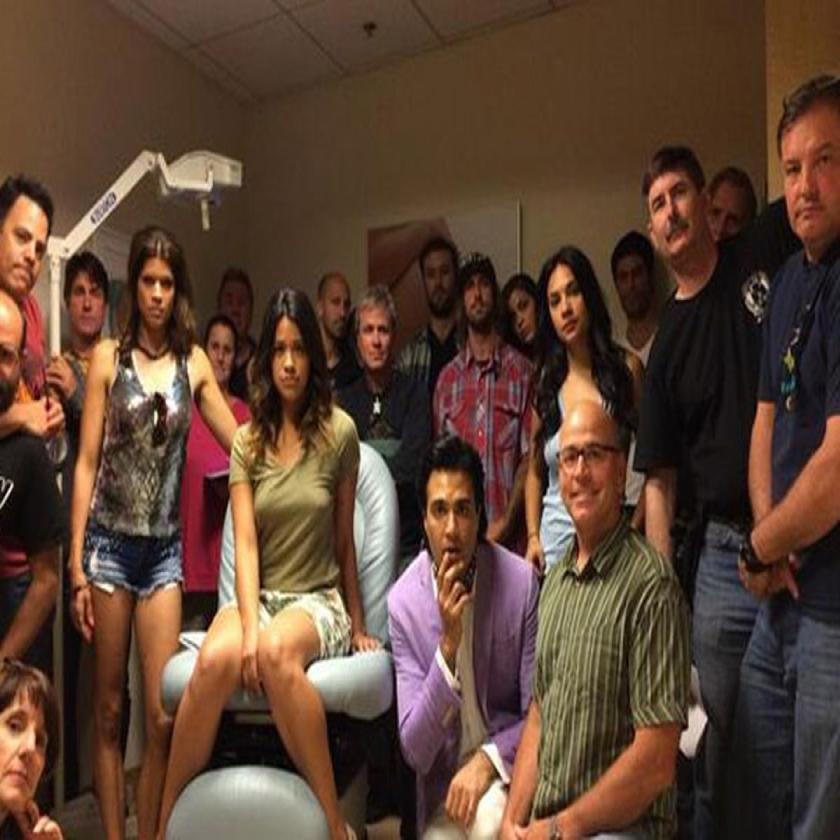Sin_casco: (773, 69, 840, 280), (554, 394, 627, 581), (641, 132, 716, 287), (419, 428, 490, 587), (0, 663, 66, 824), (260, 278, 320, 438), (541, 234, 604, 376), (129, 223, 191, 354), (0, 167, 54, 308), (705, 162, 762, 270), (61, 236, 107, 358), (612, 220, 658, 340), (356, 275, 399, 395), (504, 270, 549, 374), (418, 231, 464, 330), (459, 246, 504, 347), (201, 308, 243, 399), (319, 264, 358, 359), (220, 262, 257, 349)
